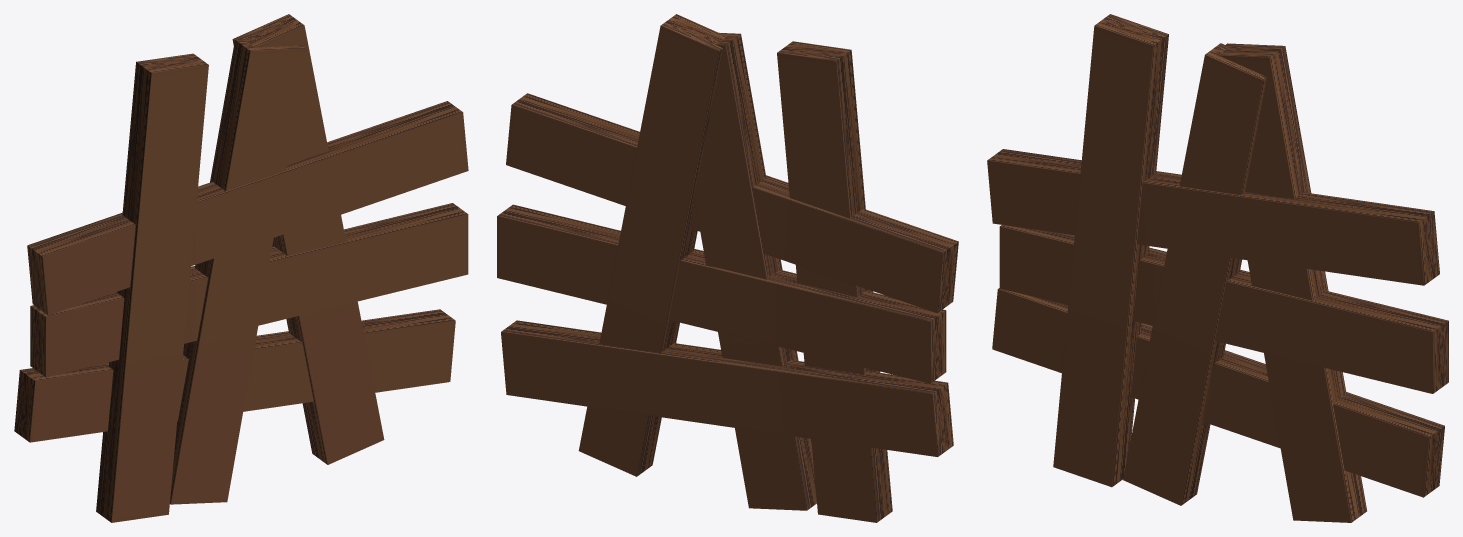
Rendered from pz_g018_fencing_damaged_01_131.obj.
The picture shows the model from 3 angles, left to right: view 1: azimuth 30°, elevation 25°; view 2: azimuth 150°, elevation 25°; view 3: azimuth 330°, elevation 25°; orthographic projection. The views are drawn at different scales.
Visible parts, largest first — view 1: pz_g018_fencing_damaged_01_131; view 2: pz_g018_fencing_damaged_01_131; view 3: pz_g018_fencing_damaged_01_131.
Part boxes in pixels (bbox=[...]): pz_g018_fencing_damaged_01_131: bbox=[14, 14, 468, 522]; pz_g018_fencing_damaged_01_131: bbox=[497, 14, 958, 522]; pz_g018_fencing_damaged_01_131: bbox=[987, 14, 1448, 522].
Bounding box in the file's own units: 0.6782 × 0.6774 × 0.072.
Materials: 1 (1 with a texture image).
